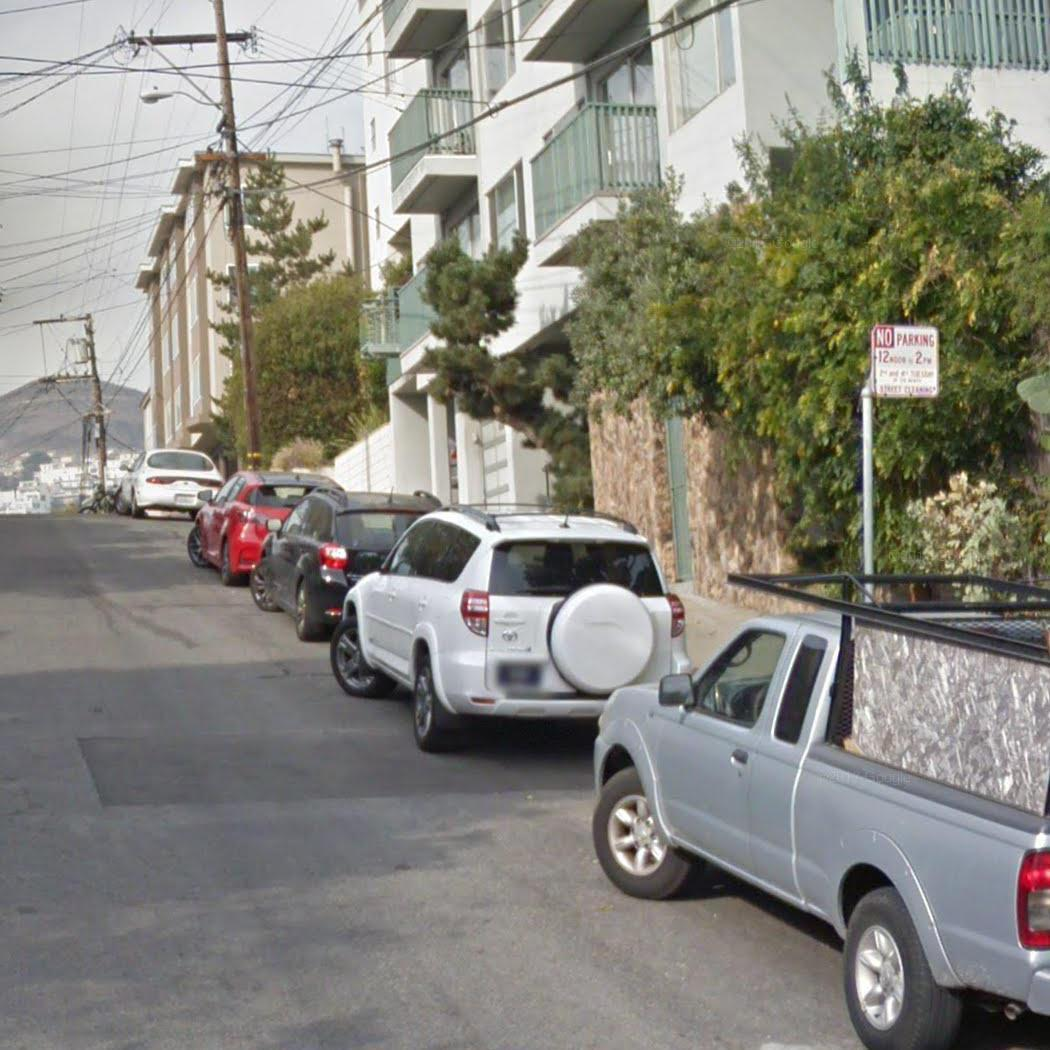No Parking: (870, 320, 943, 403)
